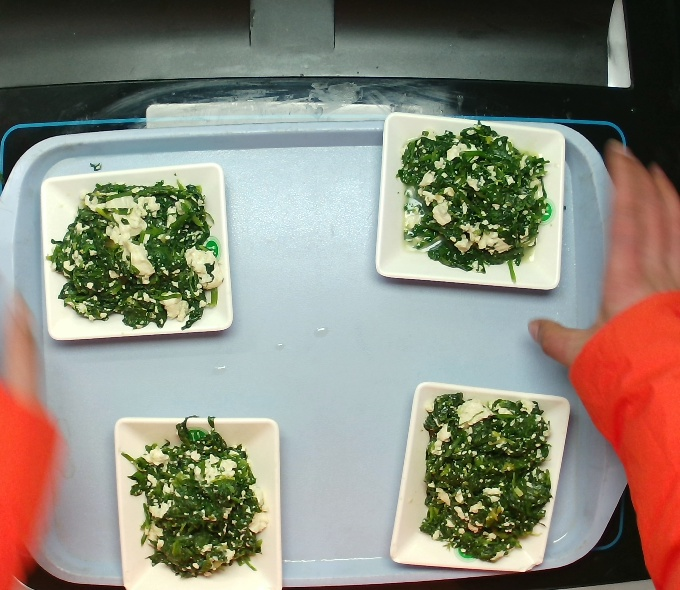wcq-QinCaiYeDouFu: (384, 114, 563, 279), (403, 384, 561, 562), (49, 169, 222, 329), (129, 431, 265, 561)
